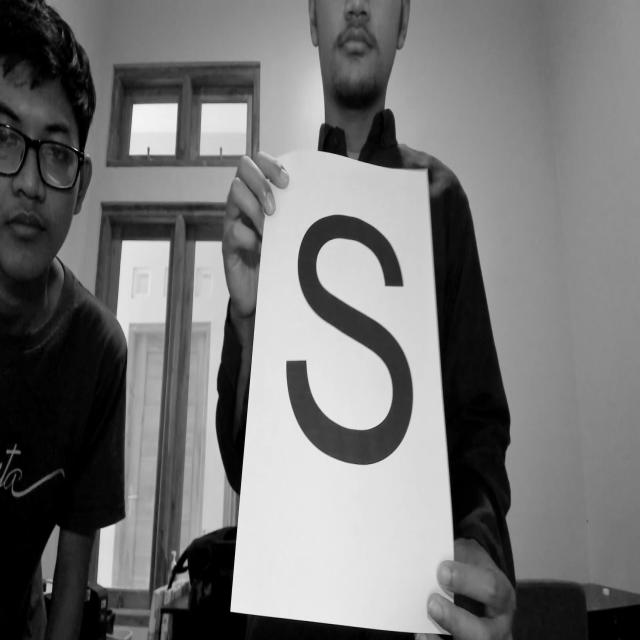s: (277, 195, 419, 495)
